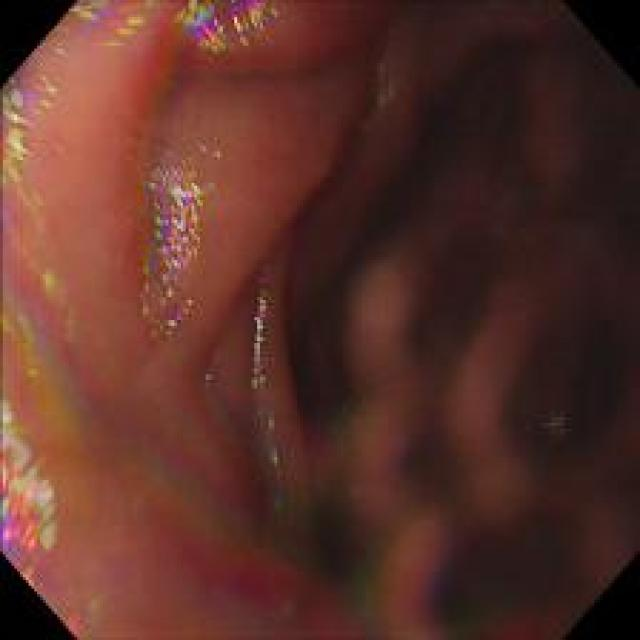blur: (228, 69, 631, 631), (461, 324, 481, 340)
color misalignment: (196, 524, 584, 636), (15, 274, 100, 439), (4, 401, 65, 584), (0, 68, 58, 226), (1, 225, 41, 434), (149, 162, 195, 334), (41, 2, 162, 52), (362, 48, 400, 135), (61, 578, 106, 634), (251, 271, 270, 396), (541, 402, 578, 451), (261, 404, 284, 480), (192, 175, 210, 242)
contrast: (208, 9, 628, 618)
specularity: (165, 5, 278, 55)
